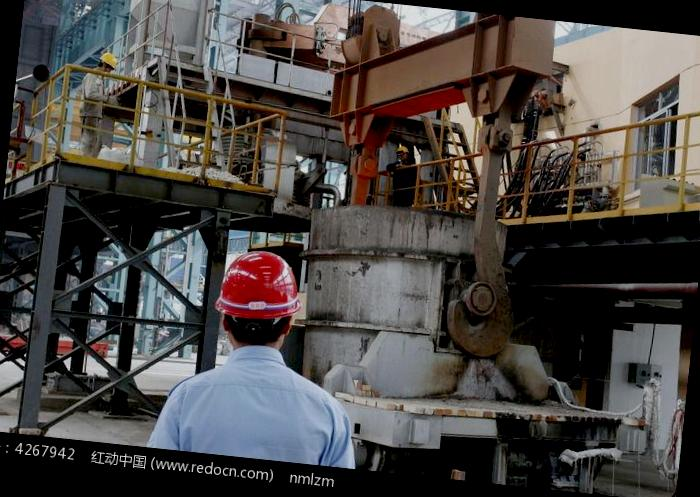helmet: (204, 242, 314, 324)
no_vest: (150, 336, 354, 464)
person: (136, 234, 369, 477)
